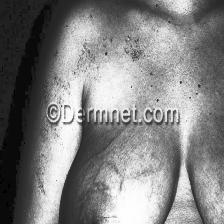Benign Marking or Mole: (102, 156, 166, 190), (73, 42, 95, 75), (122, 33, 144, 60)
